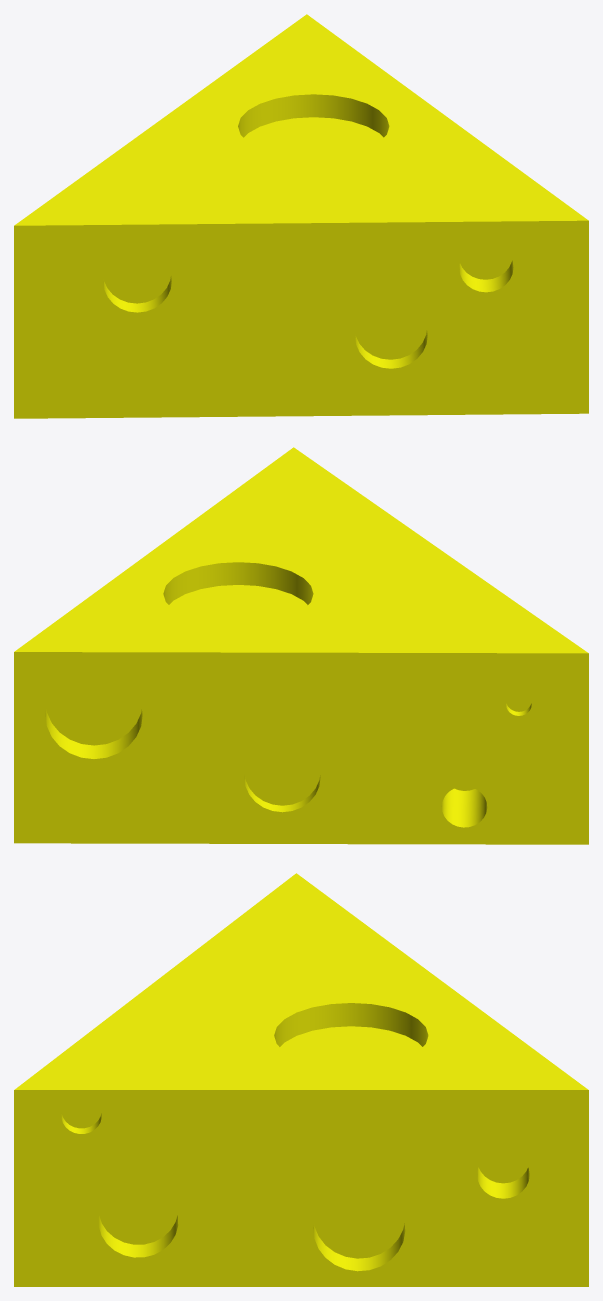
Rendered from cheeseish.dae.
3 renders of one model, top to bottom at view 1: azimuth 30°, elevation 25°; view 2: azimuth 150°, elevation 25°; view 3: azimuth 270°, elevation 25°, orthographic. The views are drawn at different scales.
Visible parts, largest first — view 1: SketchUp (×5); view 2: SketchUp (×5); view 3: SketchUp (×6).
Boxes of the visible parts, left/top/right/bottom form: SketchUp (×5): left=14, top=14, right=588, bottom=418; SketchUp (×5): left=14, top=447, right=588, bottom=844; SketchUp (×6): left=14, top=873, right=588, bottom=1286.
Size of the model in its own units: 112 by 126 by 47.44.
